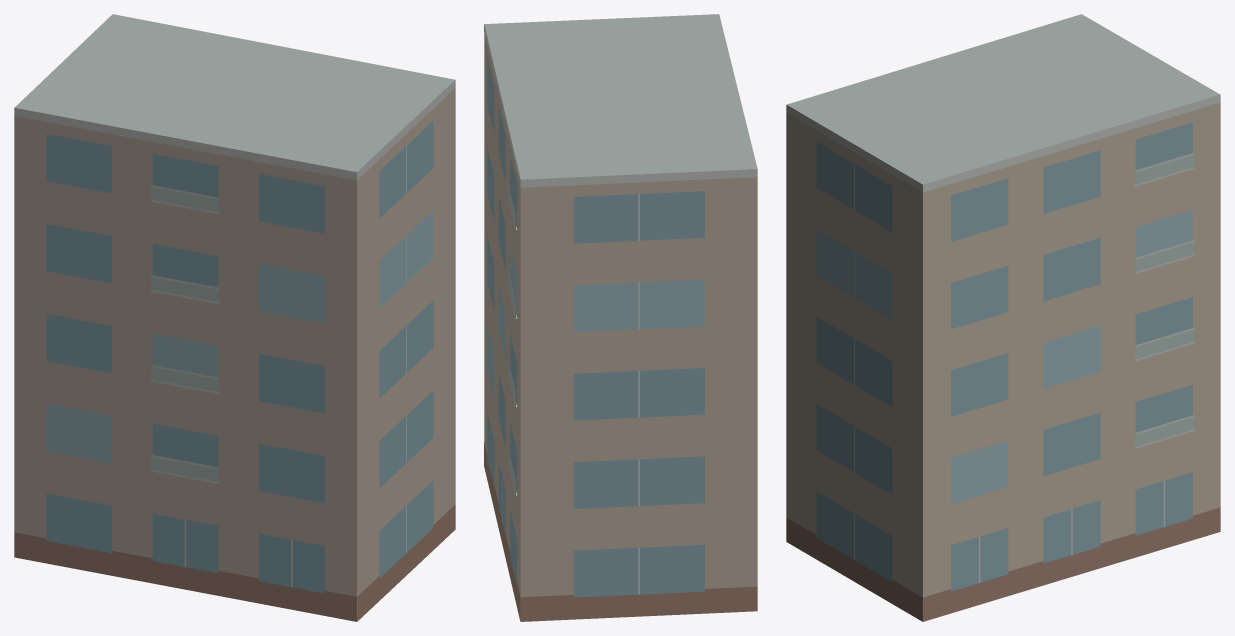
File: survey-upis-32731300.glb
3 views of the same model, side by side, from view 1: azimuth 30°, elevation 25°; view 2: azimuth 150°, elevation 25°; view 3: azimuth 270°, elevation 25° (orthographic). The views are drawn at different scales.
Visible parts, largest first — view 1: survey-upis-32731300.tmp; view 2: survey-upis-32731300.tmp; view 3: survey-upis-32731300.tmp.
Part boxes in pixels (x1,y1,x2,y2): survey-upis-32731300.tmp: (14, 14, 455, 621); survey-upis-32731300.tmp: (484, 14, 757, 621); survey-upis-32731300.tmp: (786, 14, 1220, 621).
Size of the model in its own units: 11.27 by 13.45 by 12.11.
